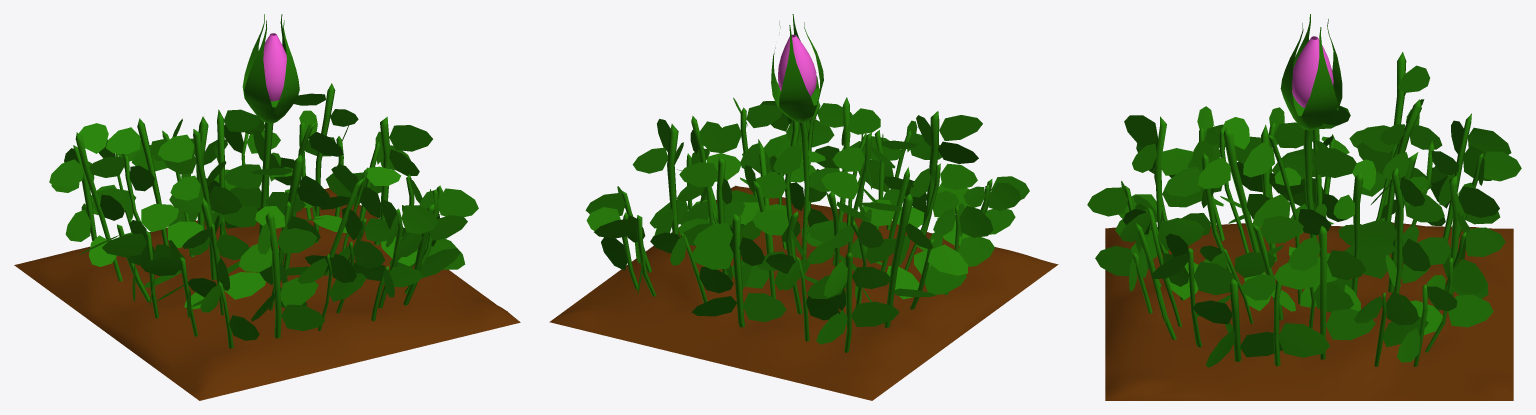
File: pink-rose-p2-leaf.glb
3 renders of one model, left to right at view 1: azimuth 30°, elevation 25°; view 2: azimuth 150°, elevation 25°; view 3: azimuth 270°, elevation 25°, orthographic. The views are drawn at different scales.
Parts seen in each view (by area): view 1: 2_nft_out_of_bloom; view 2: 2_nft_out_of_bloom; view 3: 2_nft_out_of_bloom.
Boxes of the visible parts, x1,y1,x2,y2 form: 2_nft_out_of_bloom: (14,14,520,400); 2_nft_out_of_bloom: (549,14,1058,400); 2_nft_out_of_bloom: (1087,14,1521,400).
Bounding box in the file's own units: 0.751 × 0.5686 × 0.7455.
